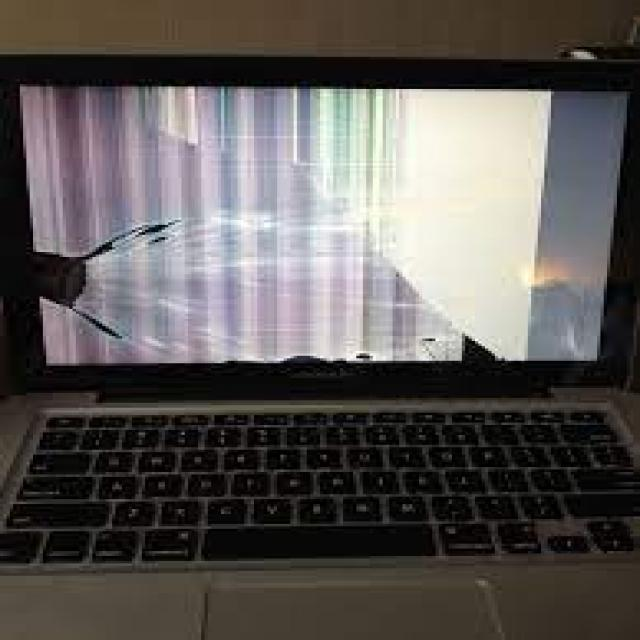Screen cracks: (23, 183, 511, 378)
